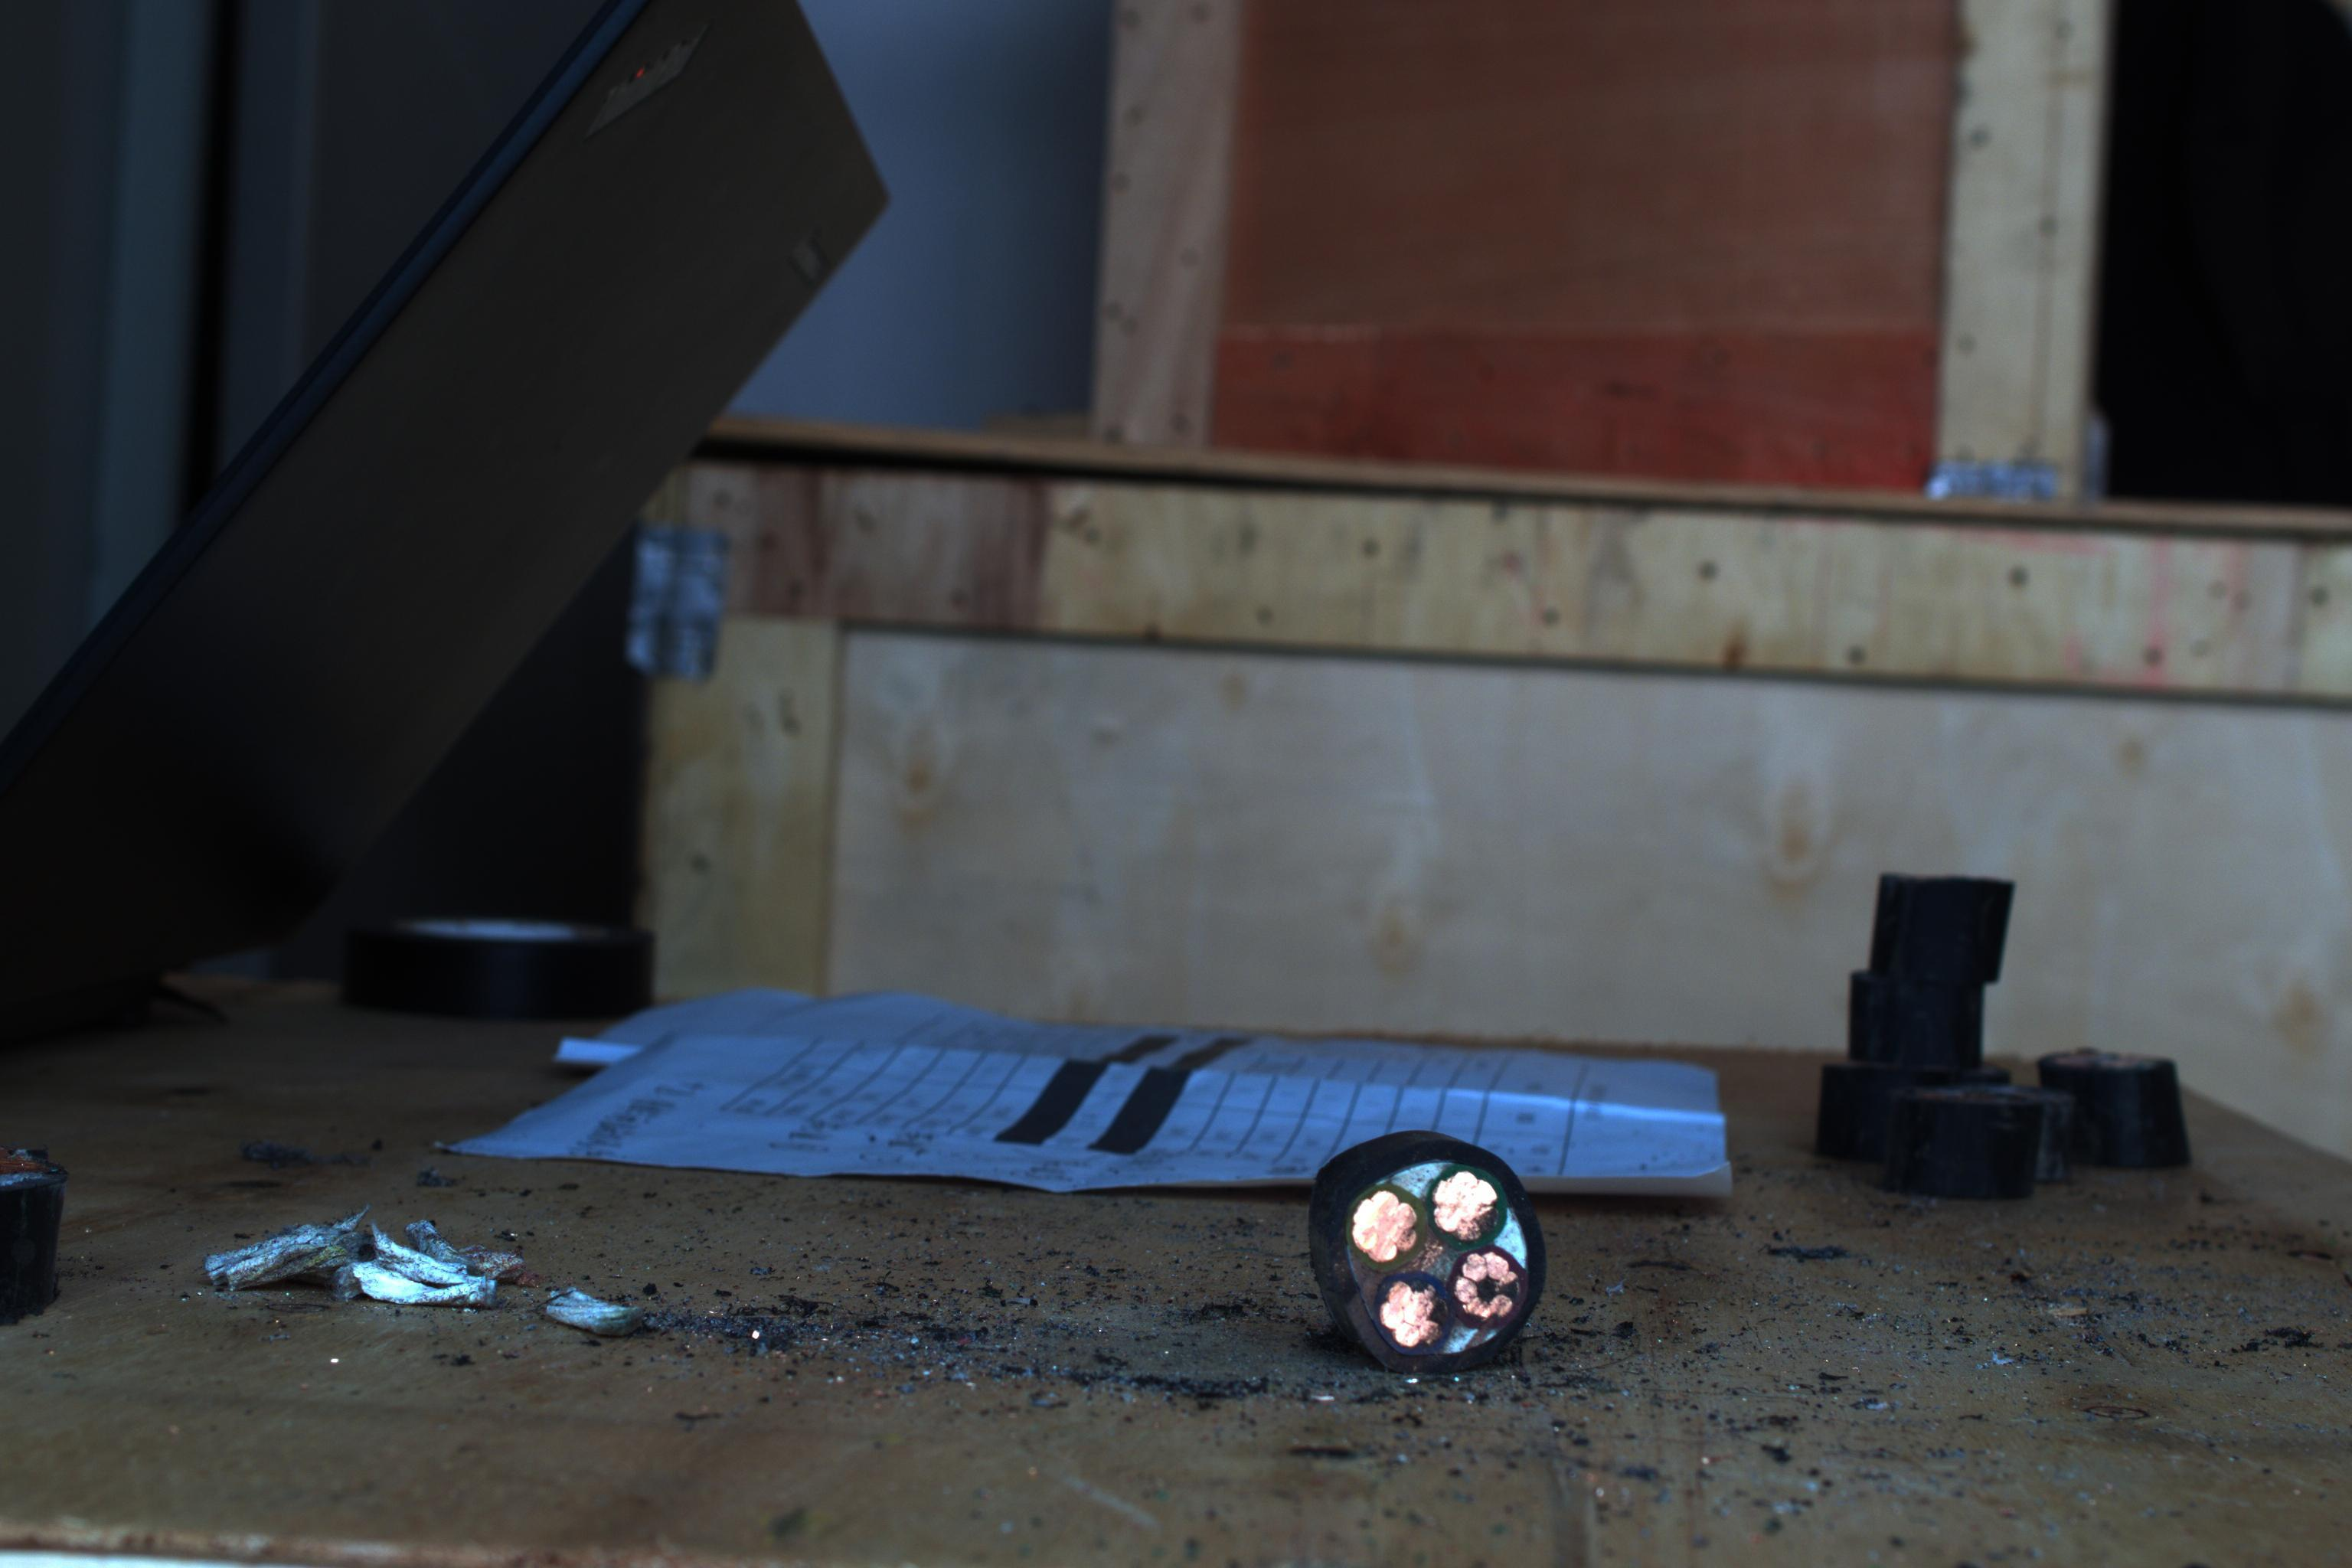YJV_0.6_1kV_4x35: (1323, 1136, 1561, 1365)
